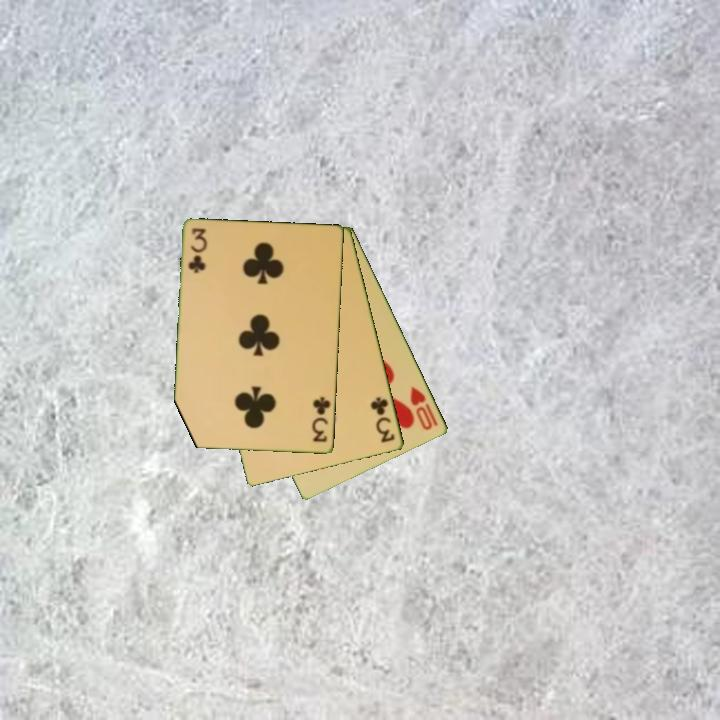10h: (407, 383, 441, 434)
3c: (367, 394, 398, 446), (309, 393, 334, 445), (185, 225, 208, 277)
